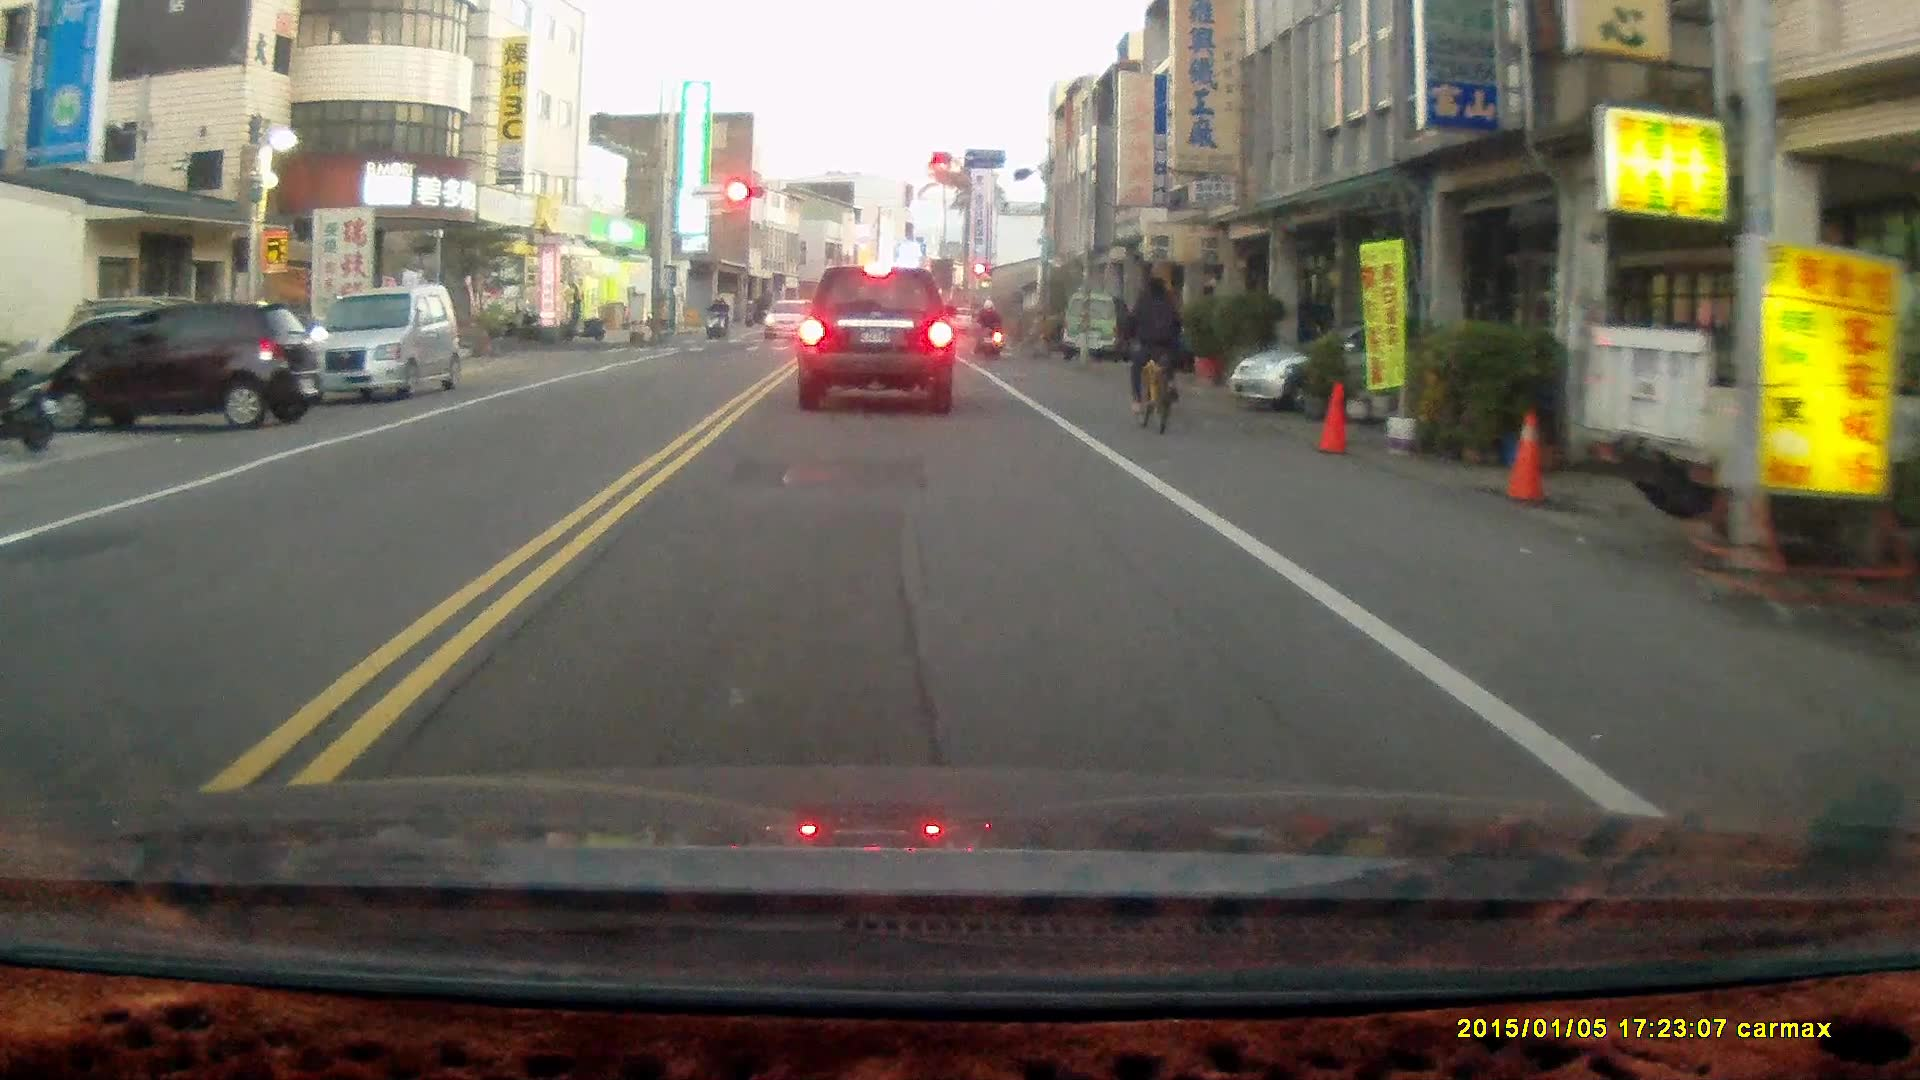rider: (1122, 271, 1182, 434), (969, 295, 1001, 360), (701, 296, 725, 343)
vehicle: (30, 297, 316, 435), (1225, 323, 1504, 423), (793, 265, 956, 416), (296, 284, 462, 406), (1061, 294, 1126, 363)
